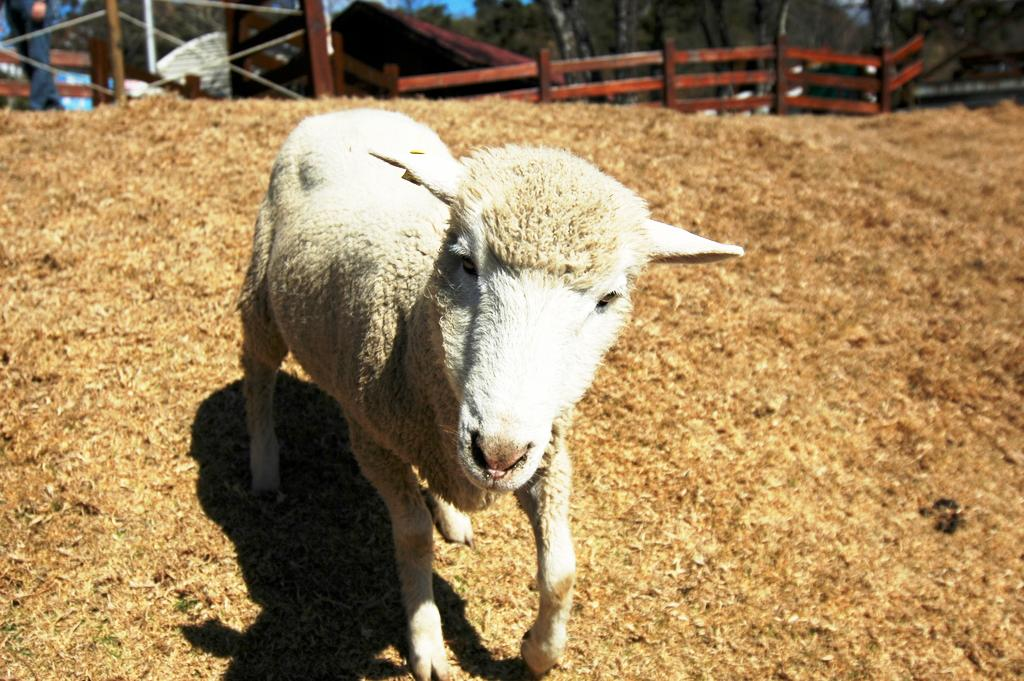Sheep: (228, 116, 751, 681)
